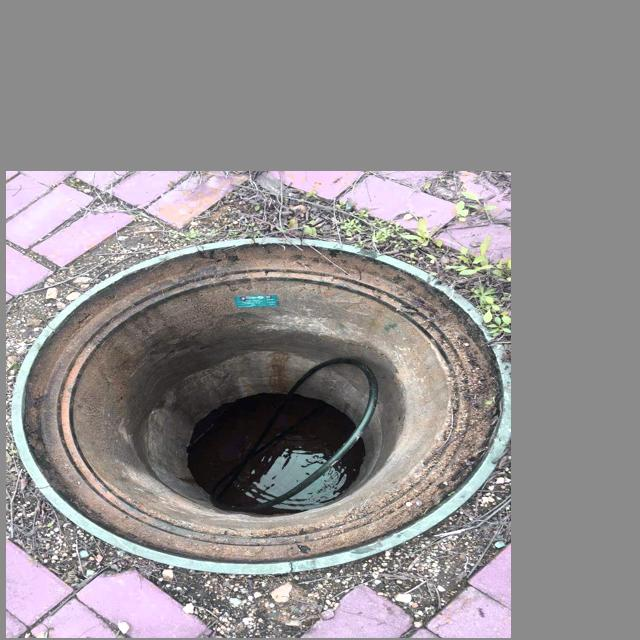lose: (17, 252, 503, 553)
